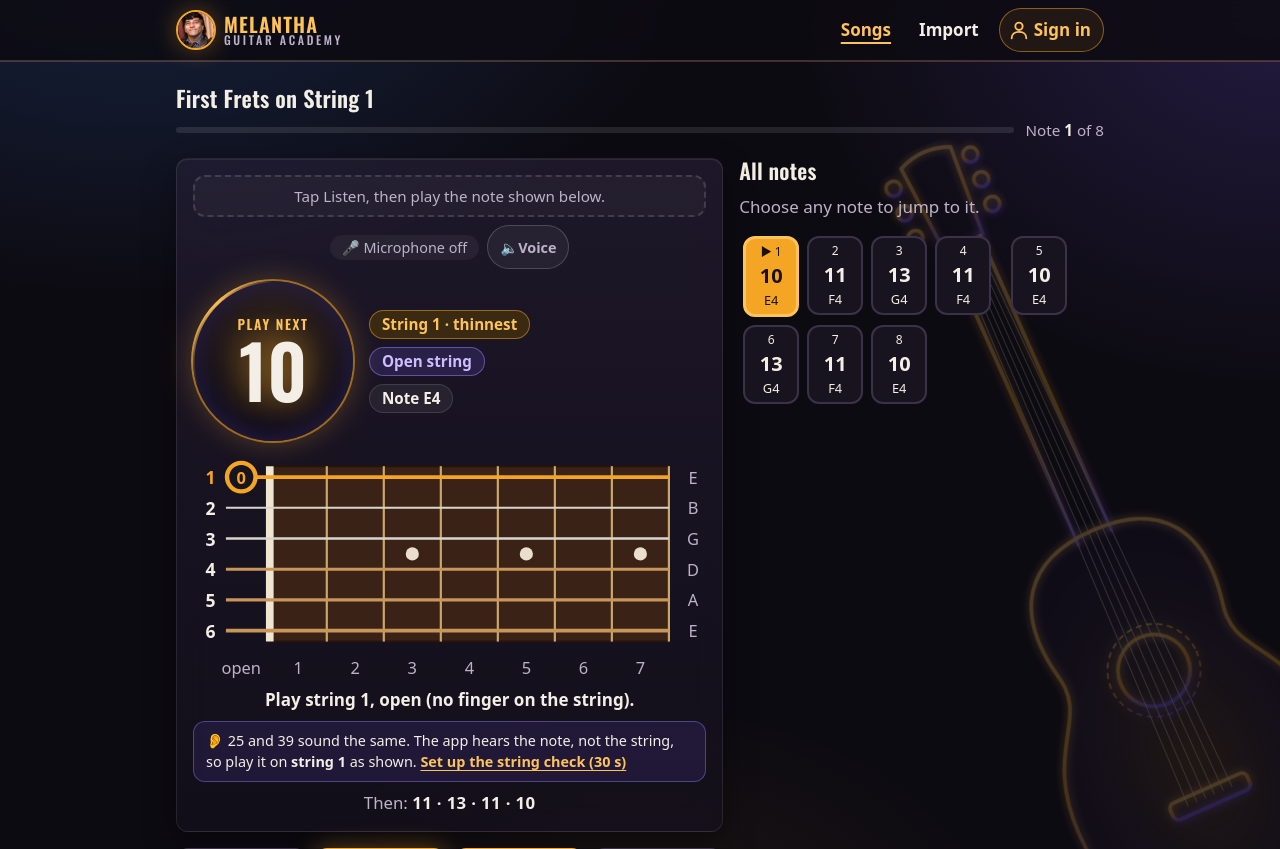
Test: Practice navigation › says when the same note can be played on another string (the app cannot tell them apart)
Click the button named "Note 3 of 8: 13": x=899, y=276 [871,236,927,315]
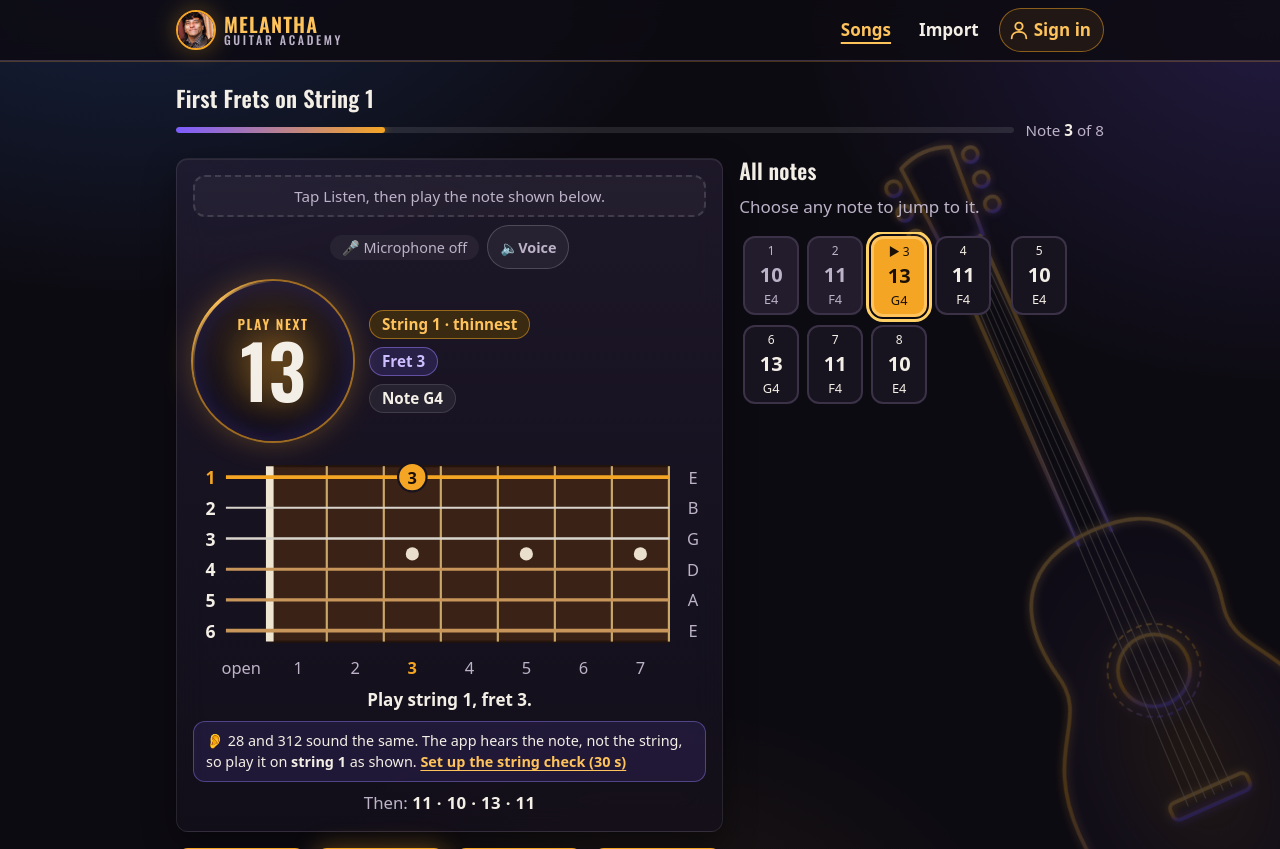
Expected: the element with test id "same-pitch" shows "28 and 312 sound the same", [193,721,706,782]
